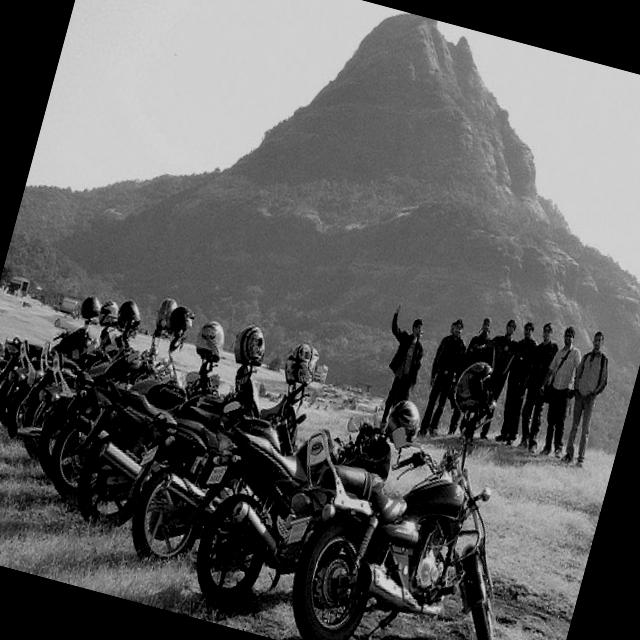Vehicle: (259, 356, 552, 640), (10, 272, 241, 528), (171, 382, 401, 638), (65, 292, 278, 565), (97, 342, 320, 599), (0, 283, 167, 470), (0, 270, 110, 437), (5, 342, 82, 476), (71, 283, 148, 382), (0, 331, 32, 429)
